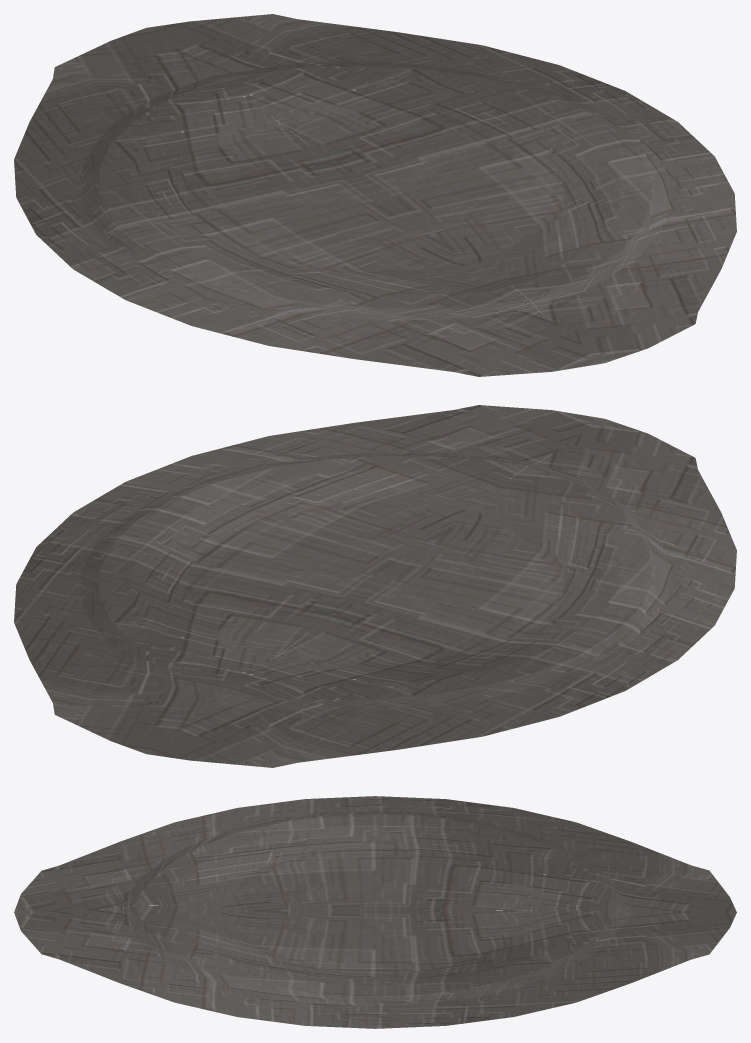
The model's file is Factory Base.fbx.
3 renders of one model, top to bottom at view 1: azimuth 30°, elevation 25°; view 2: azimuth 150°, elevation 25°; view 3: azimuth 270°, elevation 25°, orthographic. The views are drawn at different scales.
Visible parts, largest first — view 1: Base; view 2: Base; view 3: Base.
Boxes of the visible parts, x1=… form: Base: x1=14, y1=14, x2=736, y2=376; Base: x1=14, y1=405, x2=736, y2=767; Base: x1=14, y1=796, x2=736, y2=1028.
Bounding box in the file's own units: 385 × 5.43 × 505.
1 material, 1 textured.
